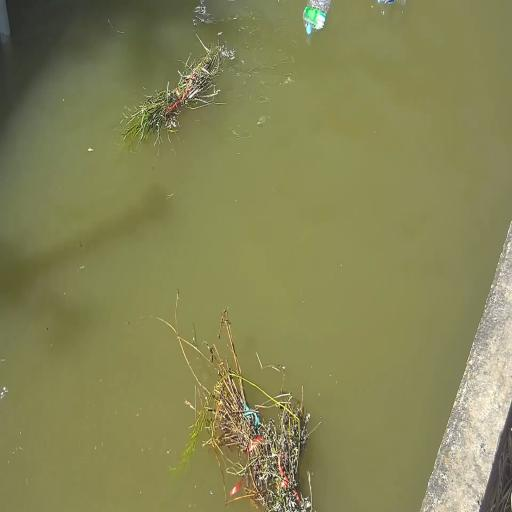plastic: (302, 0, 330, 35)
twig: (166, 309, 310, 512), (123, 40, 235, 142)
